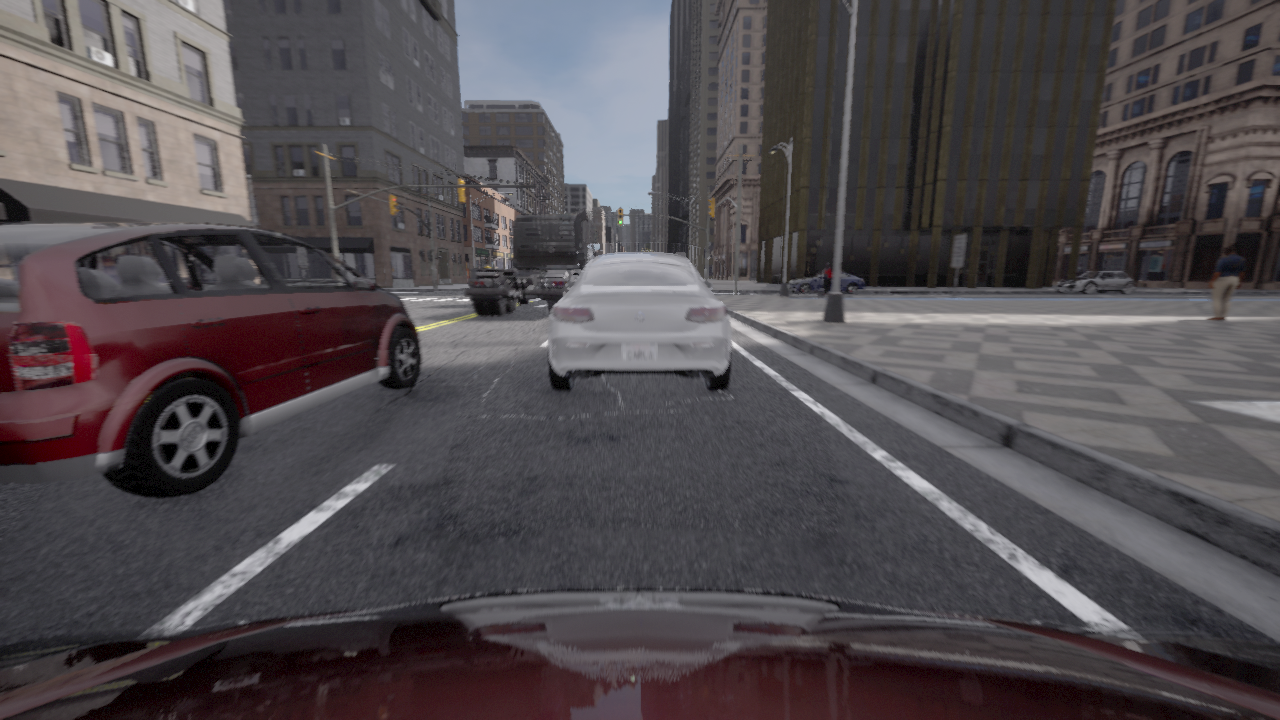cyclist: (0, 588, 1279, 719), (0, 222, 420, 498), (547, 252, 731, 390), (465, 211, 599, 316), (1055, 271, 1134, 294), (788, 271, 865, 294)
pedestrian: (1206, 245, 1246, 320), (823, 263, 832, 294), (484, 260, 492, 269)
